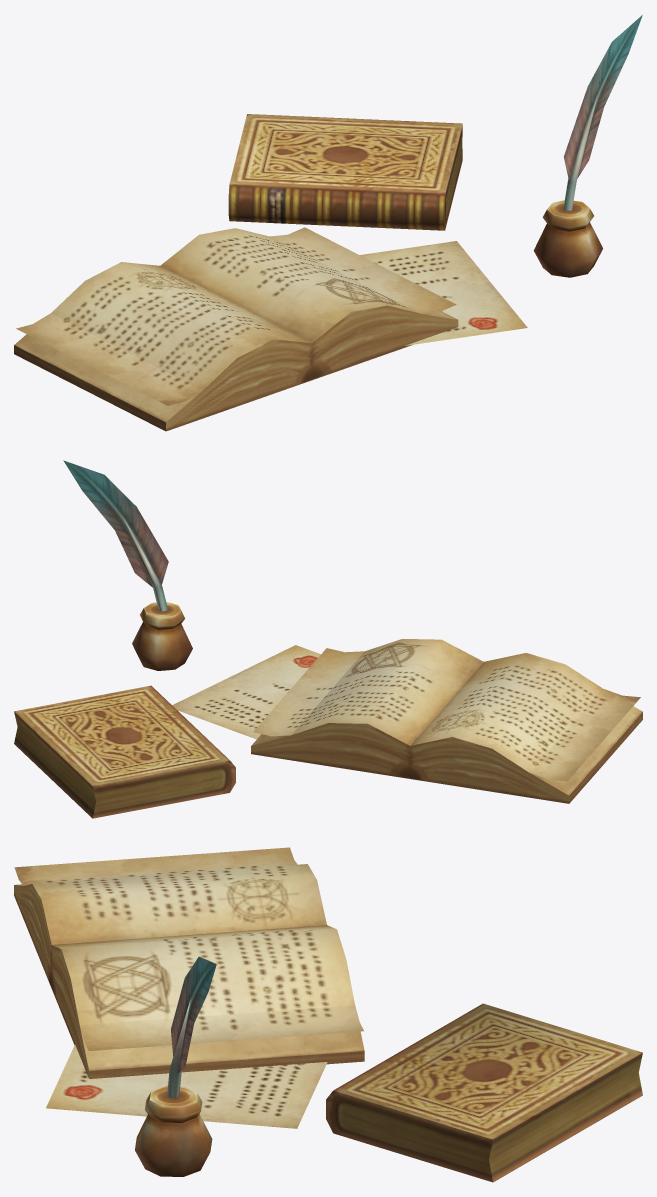
Rendered from Drawer_Preset_02.FBX.
3 views of the same model, one above another, from view 1: azimuth 30°, elevation 25°; view 2: azimuth 150°, elevation 25°; view 3: azimuth 270°, elevation 25° (orthographic). The views are drawn at different scales.
Visible parts, largest first — view 1: Drawer_Preset_02; view 2: Drawer_Preset_02; view 3: Drawer_Preset_02.
Boxes of the visible parts, x1=… form: Drawer_Preset_02: x1=14, y1=15, x2=642, y2=431; Drawer_Preset_02: x1=14, y1=460, x2=642, y2=818; Drawer_Preset_02: x1=14, y1=847, x2=642, y2=1182.
Size of the model in its own units: 123 by 95.73 by 42.69.
